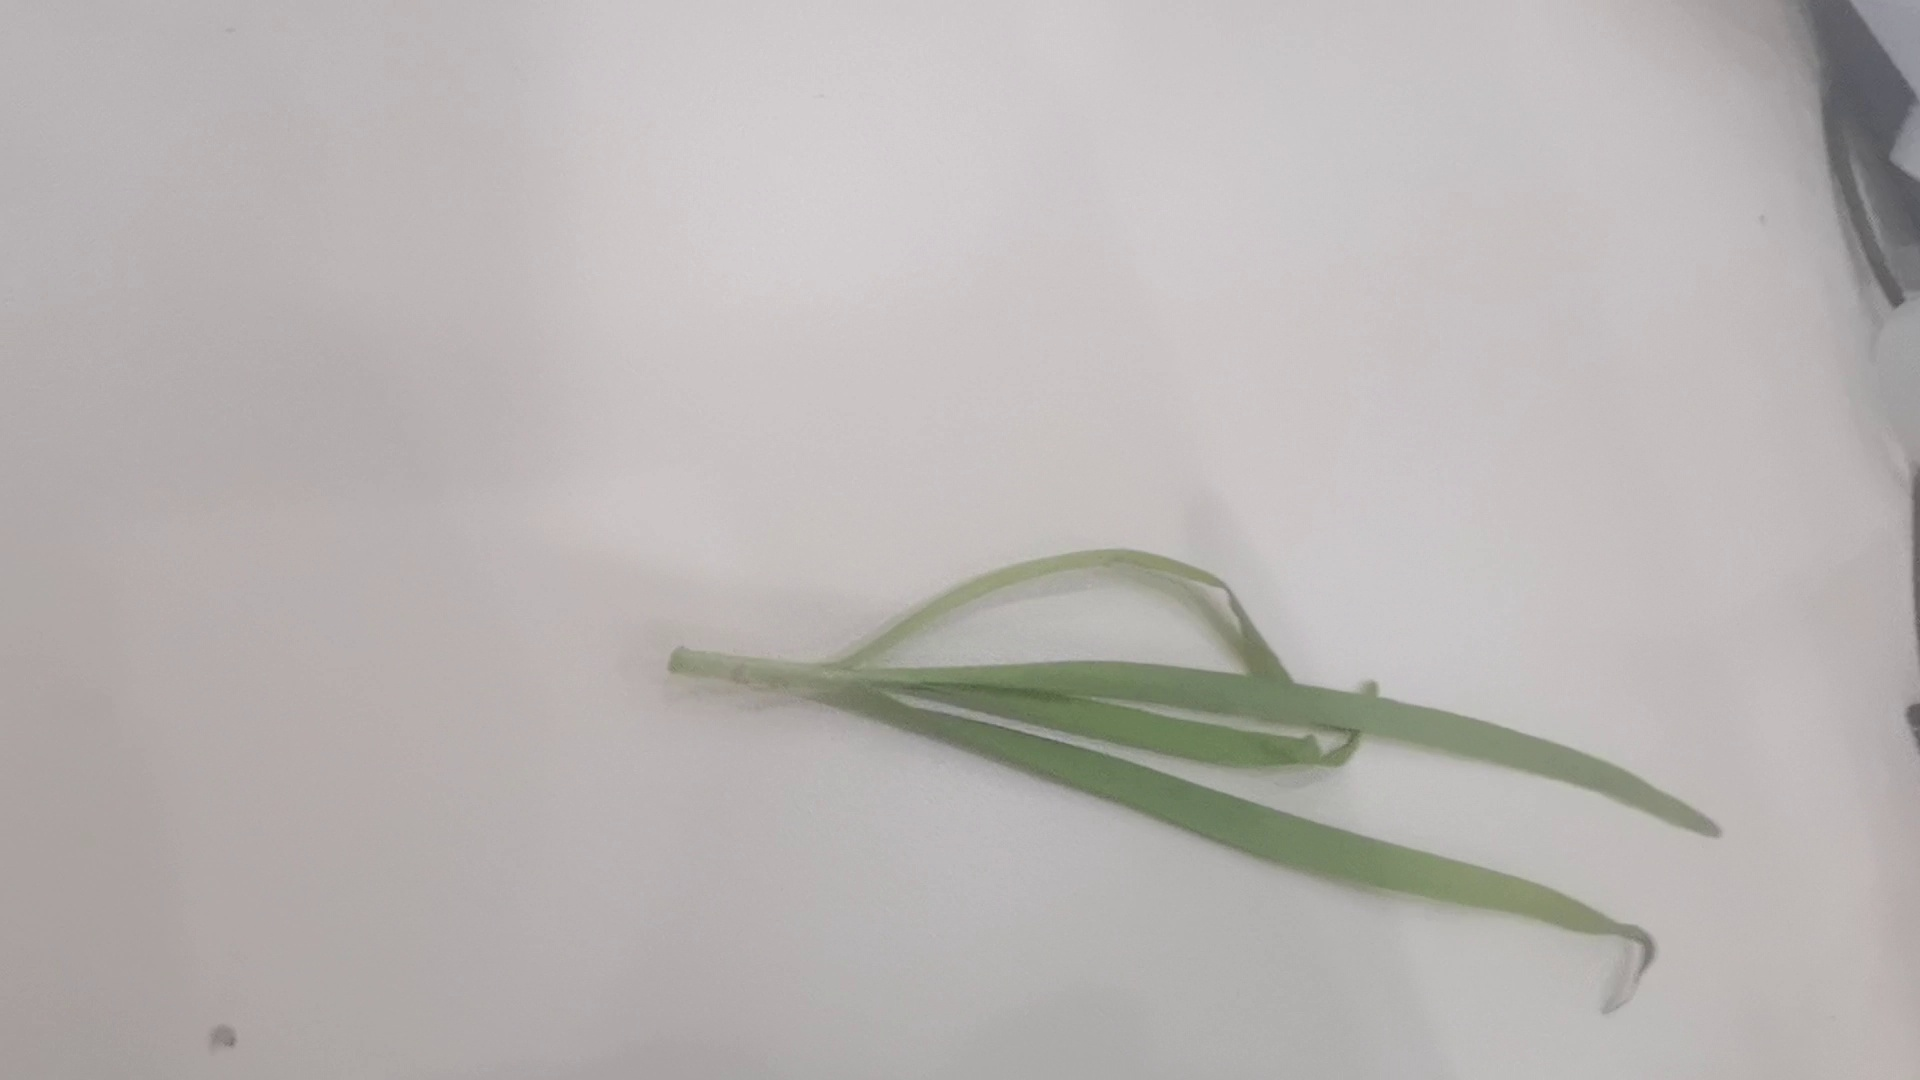chives: (659, 539, 1742, 1017)
